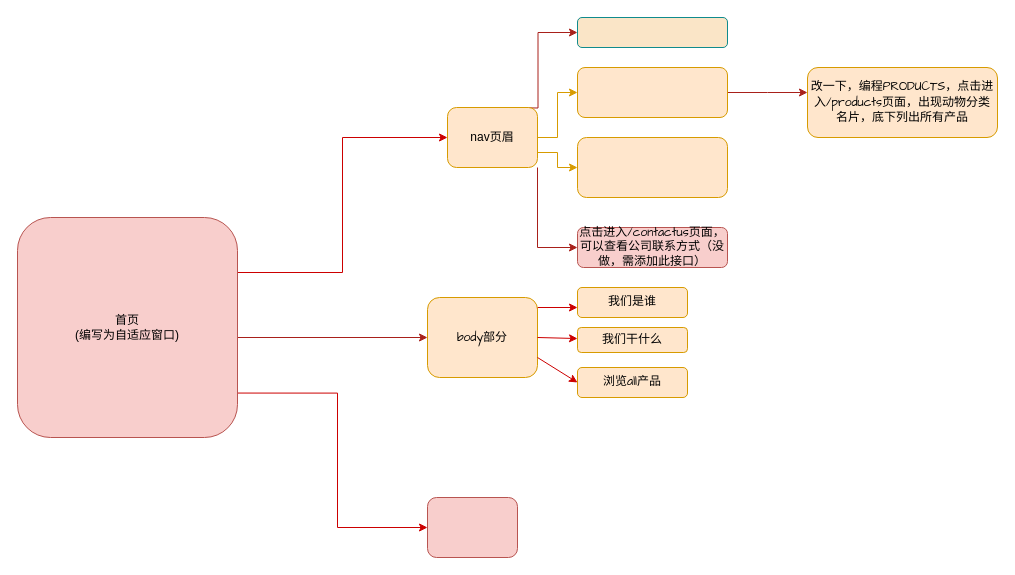
This 1015x575 diagram has some shape labels left out. Each missing label, with the box of its shape:
ALL PRODUCTS - 点击跳转界面到/allproducts查看所有产品: (576, 66, 728, 118)
HOME - 点击回首页/home: (576, 16, 728, 48)
LOGIN - 登录 - 点击跳转 /login页面，可以登录或注册: (576, 136, 728, 198)
页脚（未做）: (426, 496, 518, 558)
